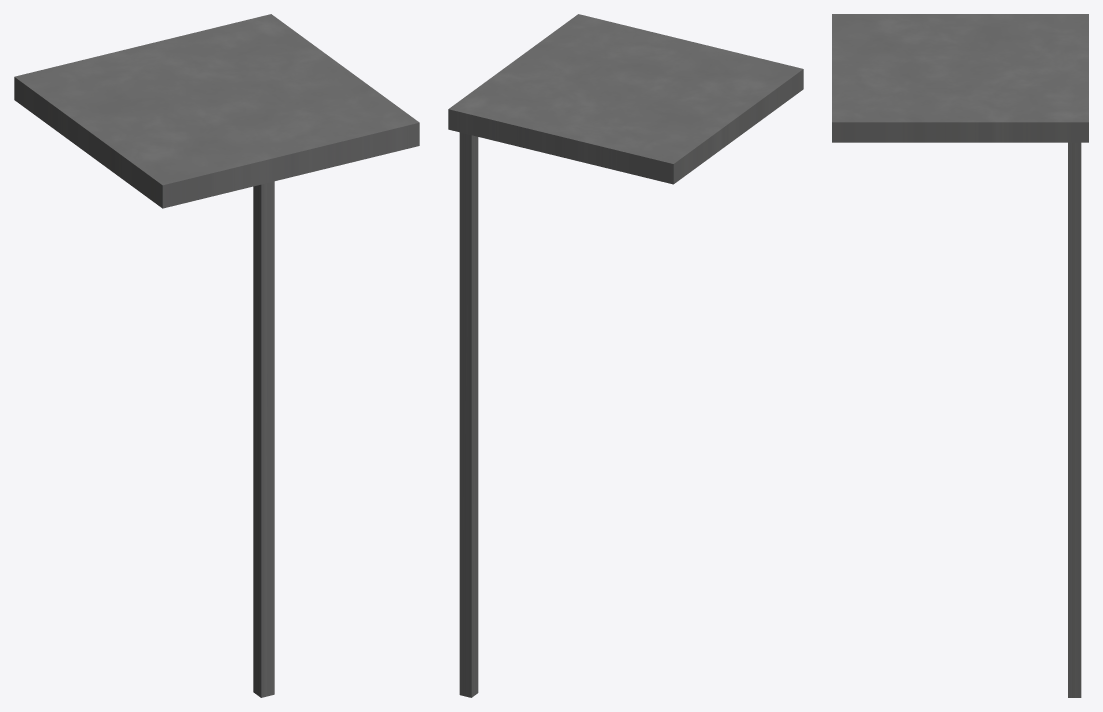
The model's file is corner_platform.glb.
3 views of the same model, side by side, from view 1: azimuth 30°, elevation 25°; view 2: azimuth 150°, elevation 25°; view 3: azimuth 270°, elevation 25° (orthographic). The views are drawn at different scales.
Visible parts, largest first — view 1: Plane.003; view 2: Plane.003; view 3: Plane.003.
Part boxes in pixels (left/top/right/bottom): Plane.003: left=14, top=14, right=419, bottom=697; Plane.003: left=448, top=14, right=803, bottom=697; Plane.003: left=832, top=14, right=1088, bottom=697.
Size of the model in its own units: 3.76 by 9.36 by 3.76.
1 material, 1 textured.
